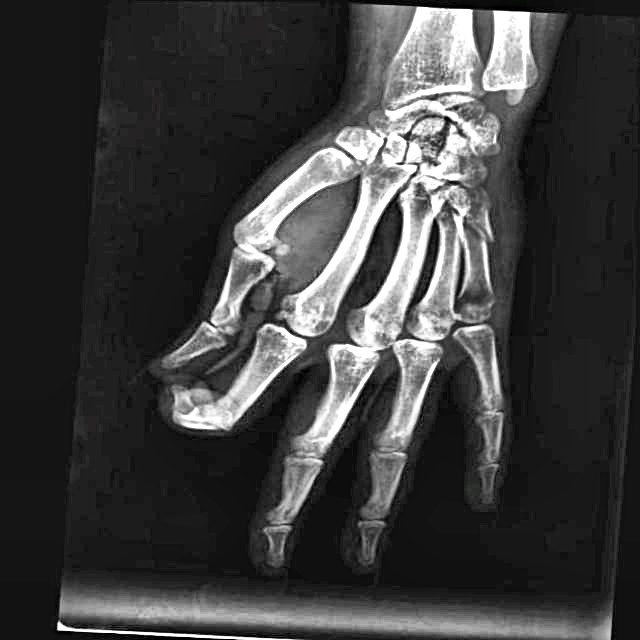Comminuted: (156, 377, 247, 451)
Oblique Displaced: (449, 186, 512, 256)
